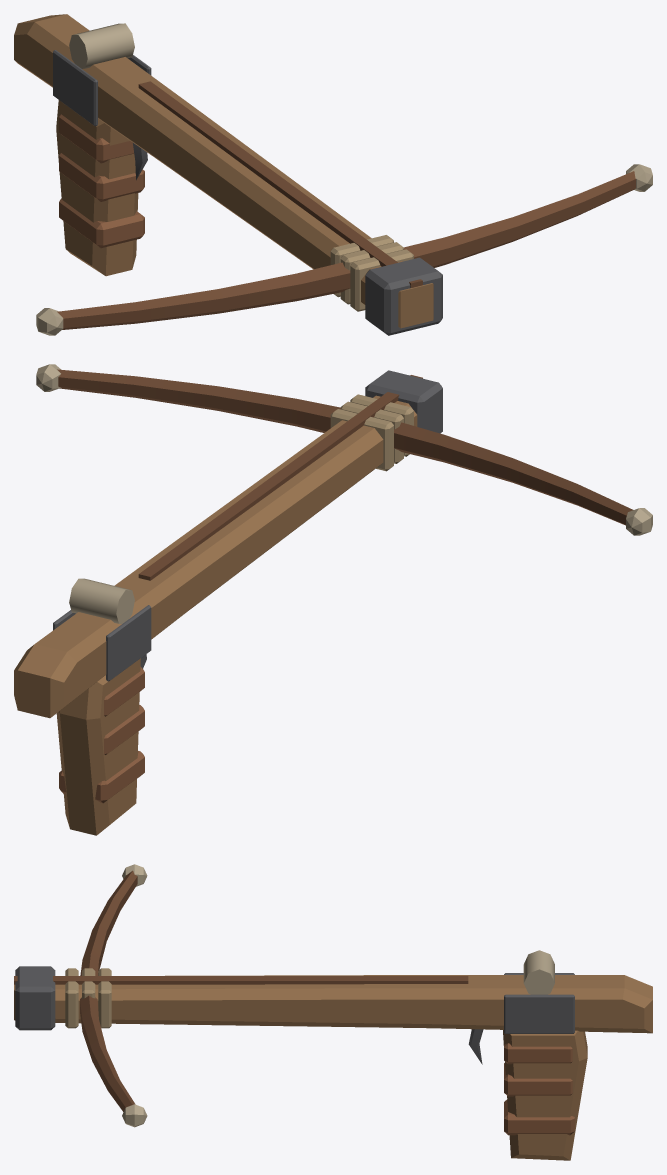
File: hand_crossbow.glb
The picture shows the model from 3 angles, top to bottom: view 1: azimuth 30°, elevation 25°; view 2: azimuth 150°, elevation 25°; view 3: azimuth 270°, elevation 25°; orthographic projection. The views are drawn at different scales.
Parts seen in each view (by area): view 1: hand_crossbow; view 2: hand_crossbow; view 3: hand_crossbow.
Part boxes in pixels (bbox=[...]): hand_crossbow: bbox=[14, 14, 652, 335]; hand_crossbow: bbox=[14, 364, 652, 835]; hand_crossbow: bbox=[14, 864, 652, 1160].
Bounding box in the file's own units: 0.4156 × 0.152 × 0.45.
